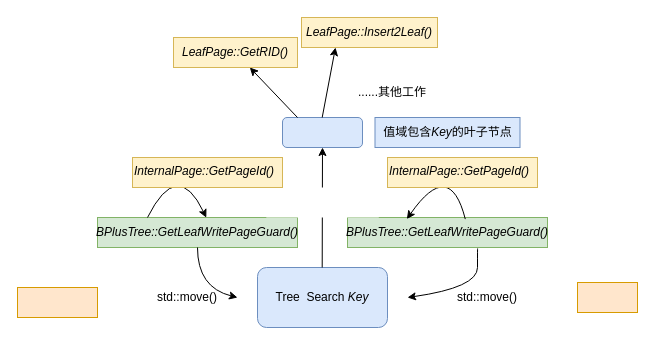
Some shapes in this 655 by 345 pixel diagram are drawn without their labels. The centre of each missing label's shape, as x and y in pixels:
LeafNode: pixel 322 132
Maybe-Write: pixel 57 302
Read-Only: pixel 607 297
从根节点开始 逐渐迭代往下寻找: pixel 322 202
